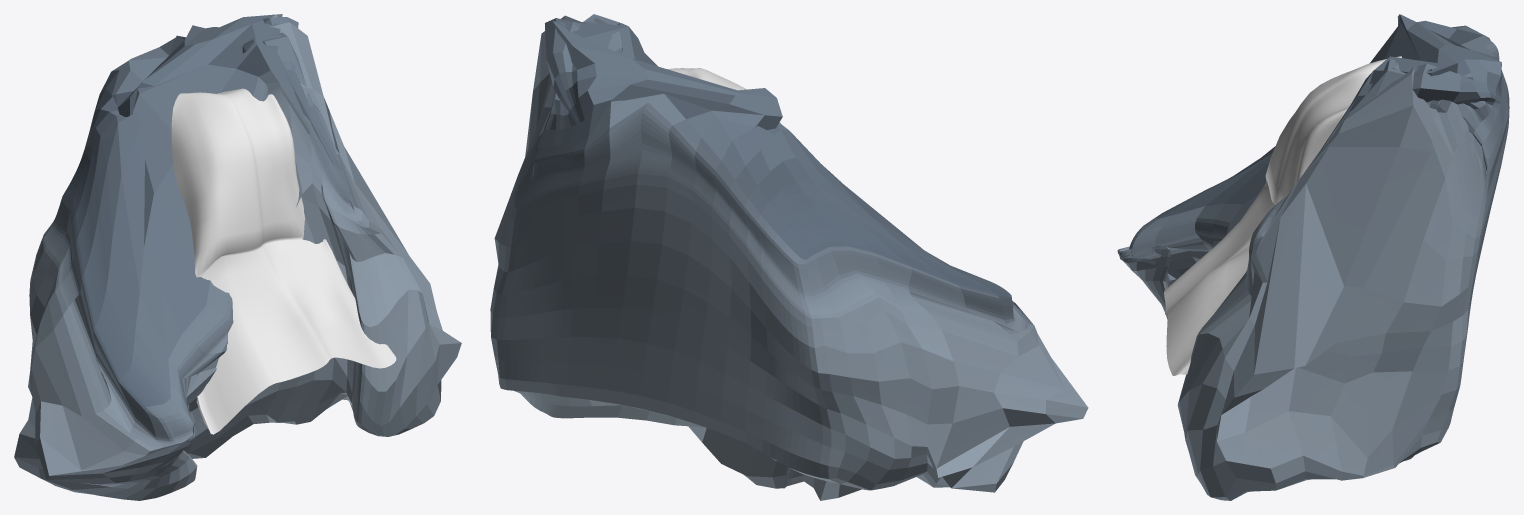
File: MountainAndFallAfter.fbx
3 renders of one model, left to right at view 1: azimuth 30°, elevation 25°; view 2: azimuth 150°, elevation 25°; view 3: azimuth 270°, elevation 25°, orthographic. The views are drawn at different scales.
Parts seen in each view (by area): view 1: Cube.019, Plane.007; view 2: Cube.019; view 3: Cube.019, Plane.007.
Part boxes in pixels (bbox=[...]): Cube.019: bbox=[14, 14, 461, 500]; Plane.007: bbox=[171, 88, 396, 434]; Cube.019: bbox=[490, 14, 1088, 500]; Cube.019: bbox=[1117, 14, 1509, 500]; Plane.007: bbox=[1164, 56, 1401, 375].
Bounding box in the file's own units: 14887 × 12219 × 10544.
